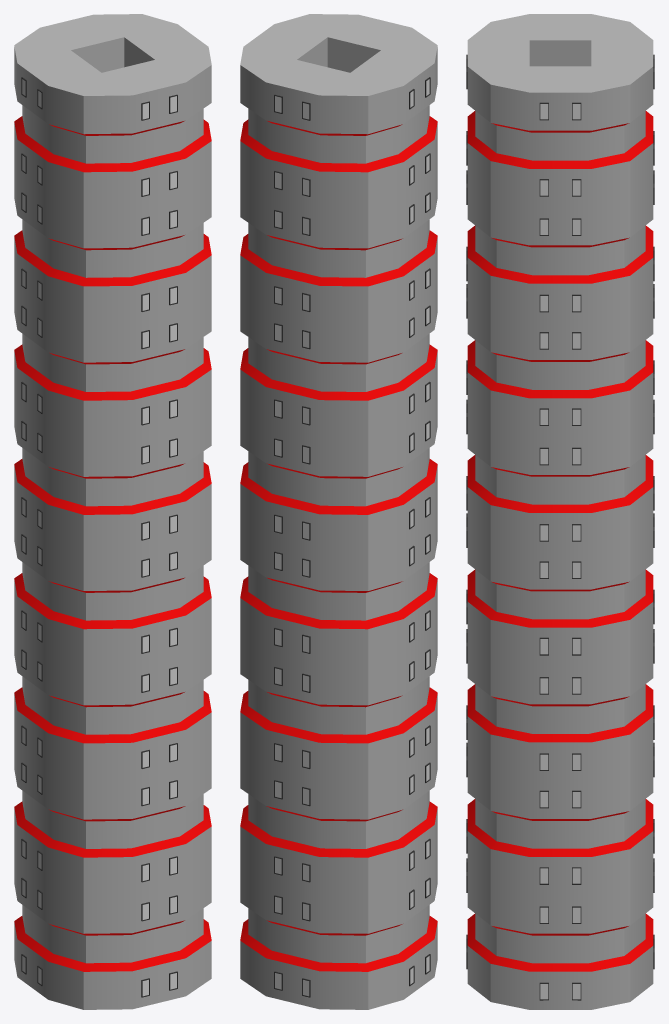
The model's file is tower_2.fbx.
3 renders of one model, left to right at view 1: azimuth 30°, elevation 25°; view 2: azimuth 150°, elevation 25°; view 3: azimuth 270°, elevation 25°, orthographic.
Visible parts, largest first — view 1: tower_2; view 2: tower_2; view 3: tower_2.
Boxes of the visible parts, <box> form: tower_2: <box>14,14,211,1009</box>; tower_2: <box>240,14,437,1009</box>; tower_2: <box>466,14,654,1009</box>.
Size of the model in its own units: 20.06 by 108 by 20.06.
